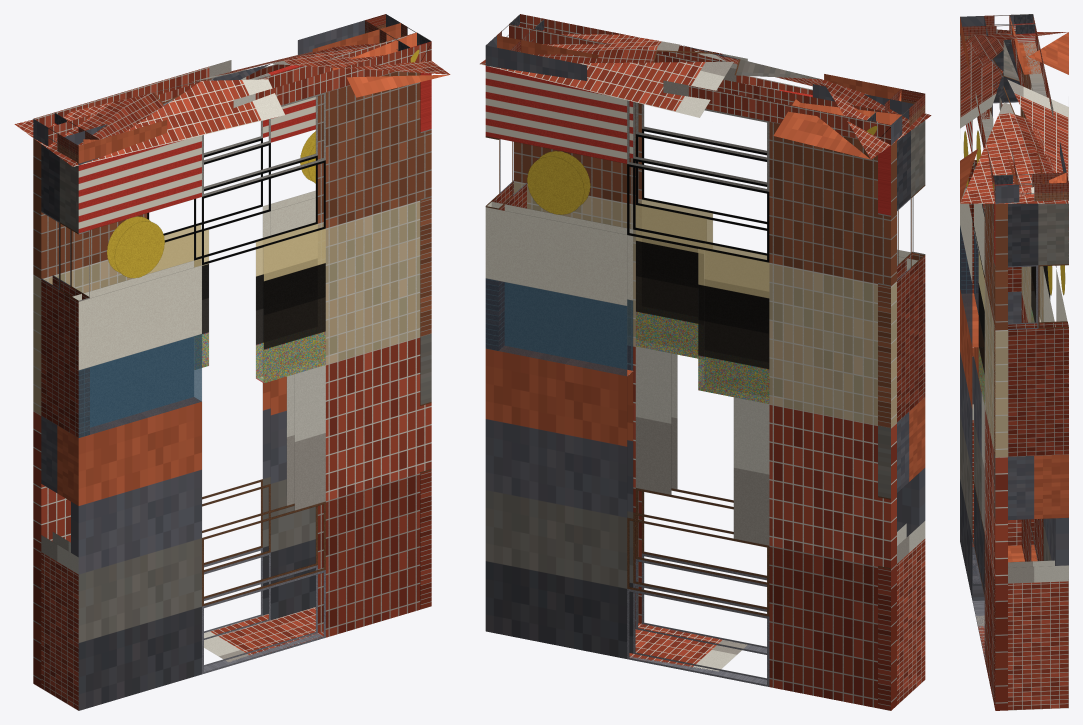
3 views of the same model, side by side, from view 1: azimuth 30°, elevation 25°; view 2: azimuth 150°, elevation 25°; view 3: azimuth 270°, elevation 25° (orthographic). The views are drawn at different scales.
Visible parts, largest first — view 1: 238636766__wall_0_xb, 238636766__wall_2_xb, 238636766__wall_0_xf, 238636766__wall_3_xb, 238636766_roof_front_xb, 238636766__cornice_0, 238636766__cornice_2, 238636766__wall_1_xb, 238636766__base, 238636766_roof_left_xb, 238636766_roof_right_xb, 238636766__wall_2_xf (+2 smaller); view 2: 238636766__wall_2_xb, 238636766__wall_0_xb, 238636766__wall_2_xf, 238636766__wall_3_xb, 238636766__wall_0_xf, 238636766__cornice_2, 238636766_roof_back_xb, 238636766__cornice_0, 238636766_roof_right_xb, 238636766__base, 238636766_roof_left_xb, 238636766__wall_1_xb (+1 smaller); view 3: 238636766__wall_1_xb, 238636766__wall_0_xb, 238636766_roof_right_xb, 238636766__wall_2_xb, 238636766_roof_back_xb, 238636766__wall_3_xb, 238636766_roof_front_xb, 238636766__wall_0_xf, 238636766__cornice_0, 238636766__cornice_2, 238636766__cornice_1, 238636766_roof_left_xb (+3 smaller).
Boxes of the visible parts, x1=… form: 238636766__wall_0_xb: x1=71, y1=71, x2=431, y2=710; 238636766__wall_2_xb: x1=33, y1=65, x2=316, y2=687; 238636766__wall_0_xf: x1=79, y1=216, x2=325, y2=505; 238636766__wall_3_xb: x1=41, y1=144, x2=89, y2=710; 238636766_roof_front_xb: x1=73, y1=74, x2=449, y2=166; 238636766__cornice_0: x1=64, y1=32, x2=431, y2=165; 238636766__cornice_2: x1=33, y1=14, x2=400, y2=146; 238636766__wall_1_xb: x1=420, y1=73, x2=431, y2=609; 238636766__base: x1=204, y1=607, x2=323, y2=662; 238636766_roof_left_xb: x1=14, y1=64, x2=269, y2=166; 238636766_roof_right_xb: x1=147, y1=43, x2=449, y2=94; 238636766__wall_2_xf: x1=148, y1=136, x2=313, y2=367; 238636766__wall_2_xb: x1=485, y1=66, x2=896, y2=710; 238636766__wall_0_xb: x1=514, y1=83, x2=925, y2=654; 238636766__wall_2_xf: x1=486, y1=151, x2=768, y2=403; 238636766__wall_3_xb: x1=878, y1=120, x2=925, y2=710; 238636766__wall_0_xf: x1=636, y1=200, x2=712, y2=358; 238636766__cornice_2: x1=485, y1=35, x2=902, y2=144; 238636766_roof_back_xb: x1=480, y1=61, x2=870, y2=159; 238636766__cornice_0: x1=509, y1=14, x2=913, y2=119; 238636766_roof_right_xb: x1=480, y1=34, x2=819, y2=78; 238636766__base: x1=629, y1=623, x2=747, y2=671; 238636766_roof_left_xb: x1=681, y1=45, x2=931, y2=159; 238636766__wall_1_xb: x1=485, y1=136, x2=526, y2=350; 238636766__wall_1_xb: x1=994, y1=203, x2=1068, y2=710; 238636766__wall_0_xb: x1=960, y1=111, x2=1007, y2=710; 238636766_roof_right_xb: x1=960, y1=41, x2=1068, y2=203; 238636766__wall_2_xb: x1=1020, y1=42, x2=1068, y2=565; 238636766_roof_back_xb: x1=1007, y1=32, x2=1068, y2=203; 238636766__wall_3_xb: x1=960, y1=39, x2=1034, y2=546; 238636766_roof_front_xb: x1=960, y1=35, x2=1003, y2=203; 238636766__wall_0_xf: x1=960, y1=227, x2=984, y2=402; 238636766__cornice_0: x1=960, y1=16, x2=1019, y2=203; 238636766__cornice_2: x1=1009, y1=14, x2=1066, y2=183; 238636766__cornice_1: x1=993, y1=172, x2=1068, y2=201; 238636766_roof_left_xb: x1=966, y1=32, x2=1067, y2=102.
Size of the model in its own units: 0.5076 by 0.7408 by 0.1359.
Materials: 1 (1 with a texture image).
